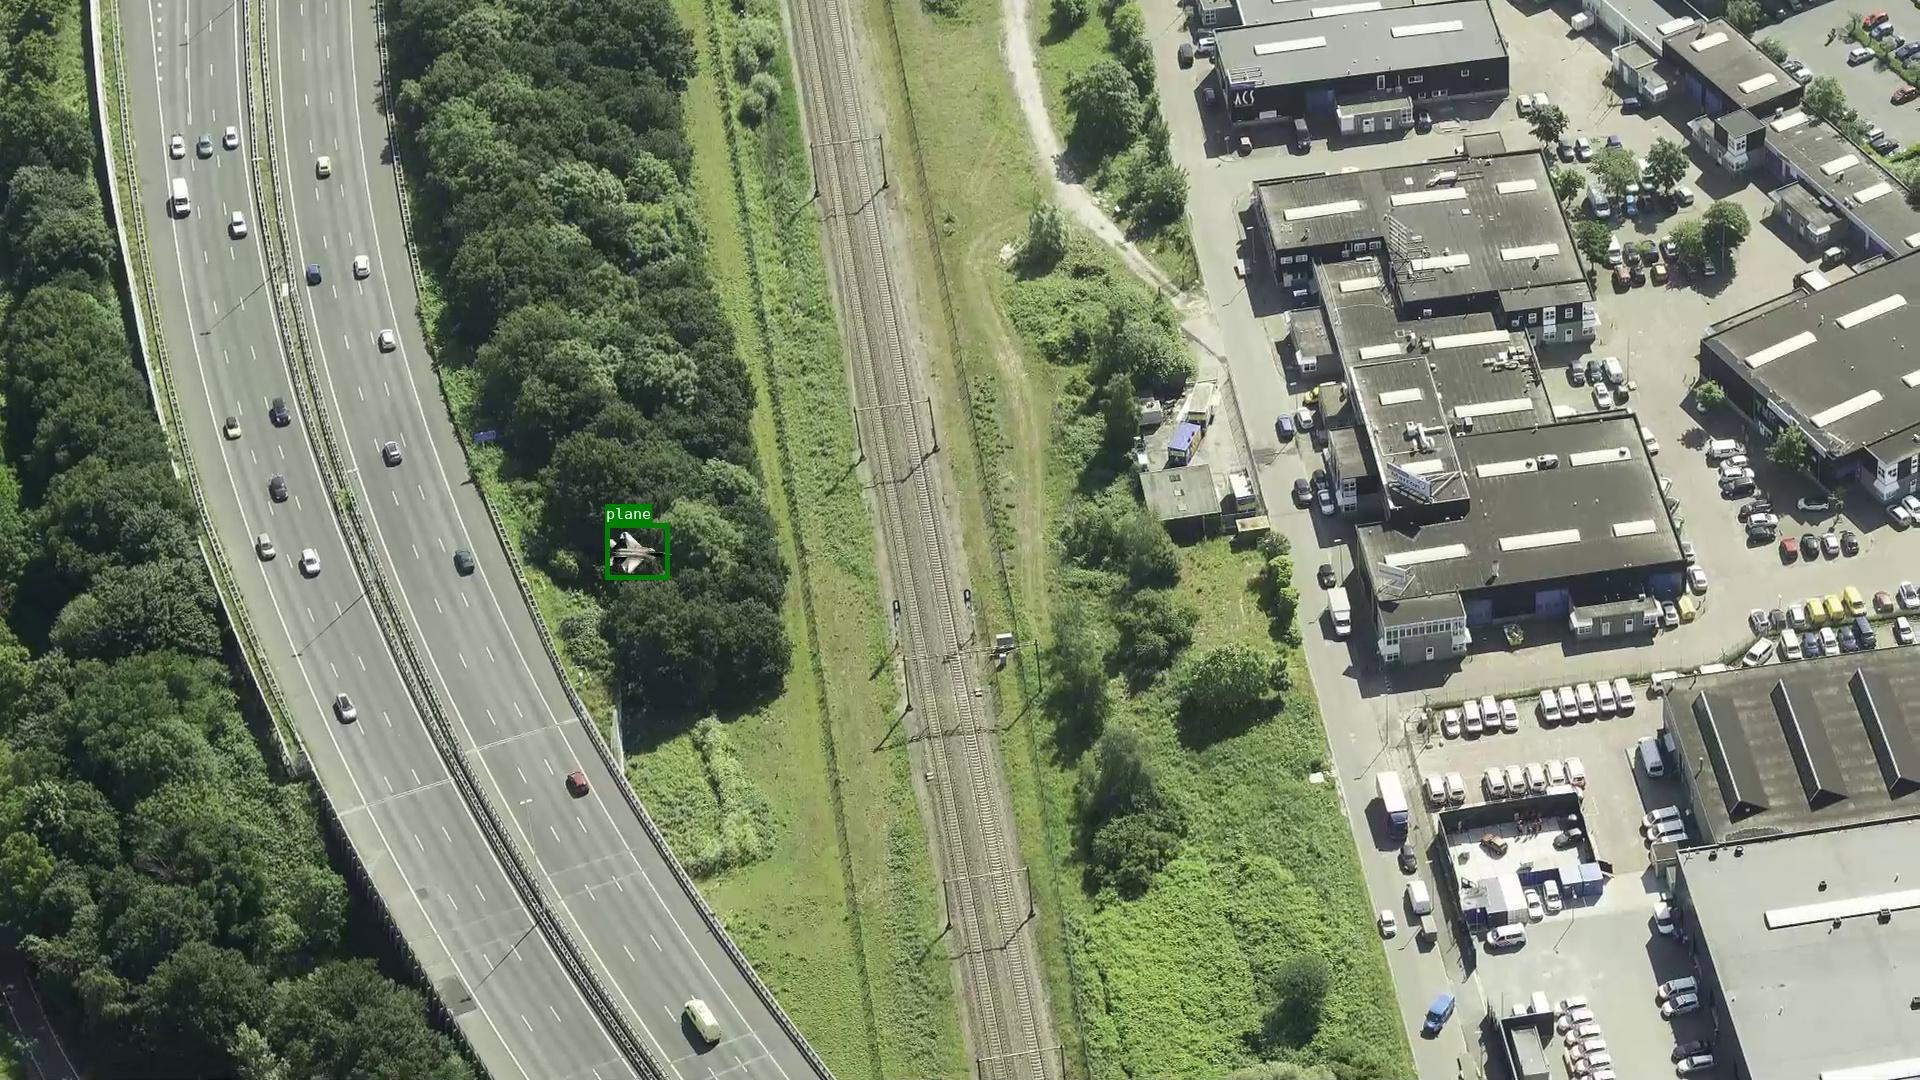plane: (605, 524, 669, 579)
